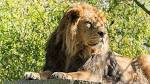lion: (24, 3, 150, 83)
